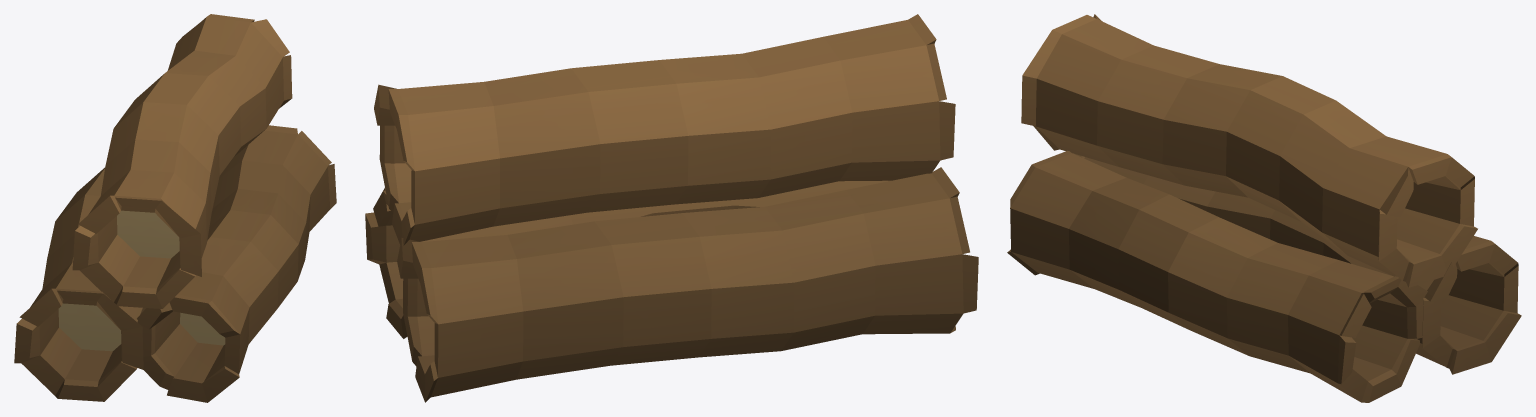
File: Tree_Trunk_Stack.fbx
3 views of the same model, side by side, from view 1: azimuth 30°, elevation 25°; view 2: azimuth 150°, elevation 25°; view 3: azimuth 270°, elevation 25° (orthographic). The views are drawn at different scales.
Visible parts, largest first — view 1: Cylinder.022; view 2: Cylinder.022; view 3: Cylinder.022.
Part boxes in pixels (box(x1,y1,x2,y2)): Cylinder.022: box(14, 14, 336, 402); Cylinder.022: box(365, 14, 978, 402); Cylinder.022: box(1007, 14, 1521, 402).
Bounding box in the file's own units: 315 × 157 × 318.
